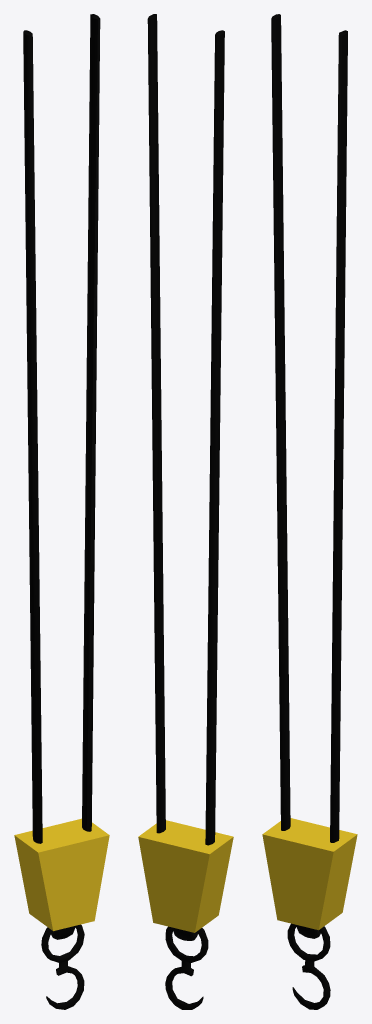
The model's file is Crane.obj.
The picture shows the model from 3 angles, left to right: view 1: azimuth 30°, elevation 25°; view 2: azimuth 150°, elevation 25°; view 3: azimuth 330°, elevation 25°; orthographic projection.
Parts seen in each view (by area): view 1: Cube; view 2: Cube; view 3: Cube.
Boxes of the visible parts, x1,y1,x2,y2 form: Cube: (14, 14, 109, 1009); Cube: (138, 14, 233, 1009); Cube: (262, 14, 357, 1009).
Bounding box in the file's own units: 3.55 × 45.35 × 2.
